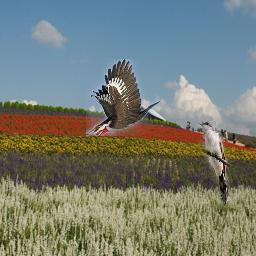Cuckoo: (198, 121, 231, 205)
Woodpecker: (86, 60, 160, 137)
